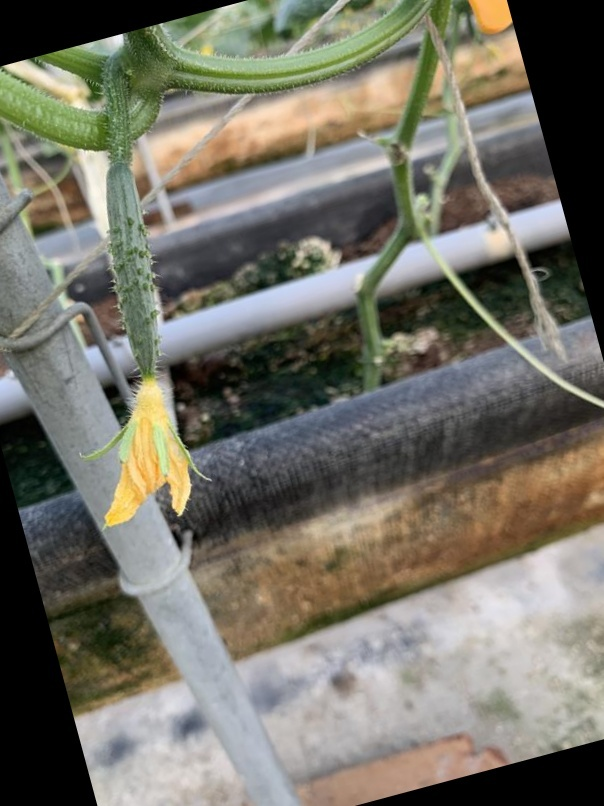bear: (69, 149, 220, 524)
